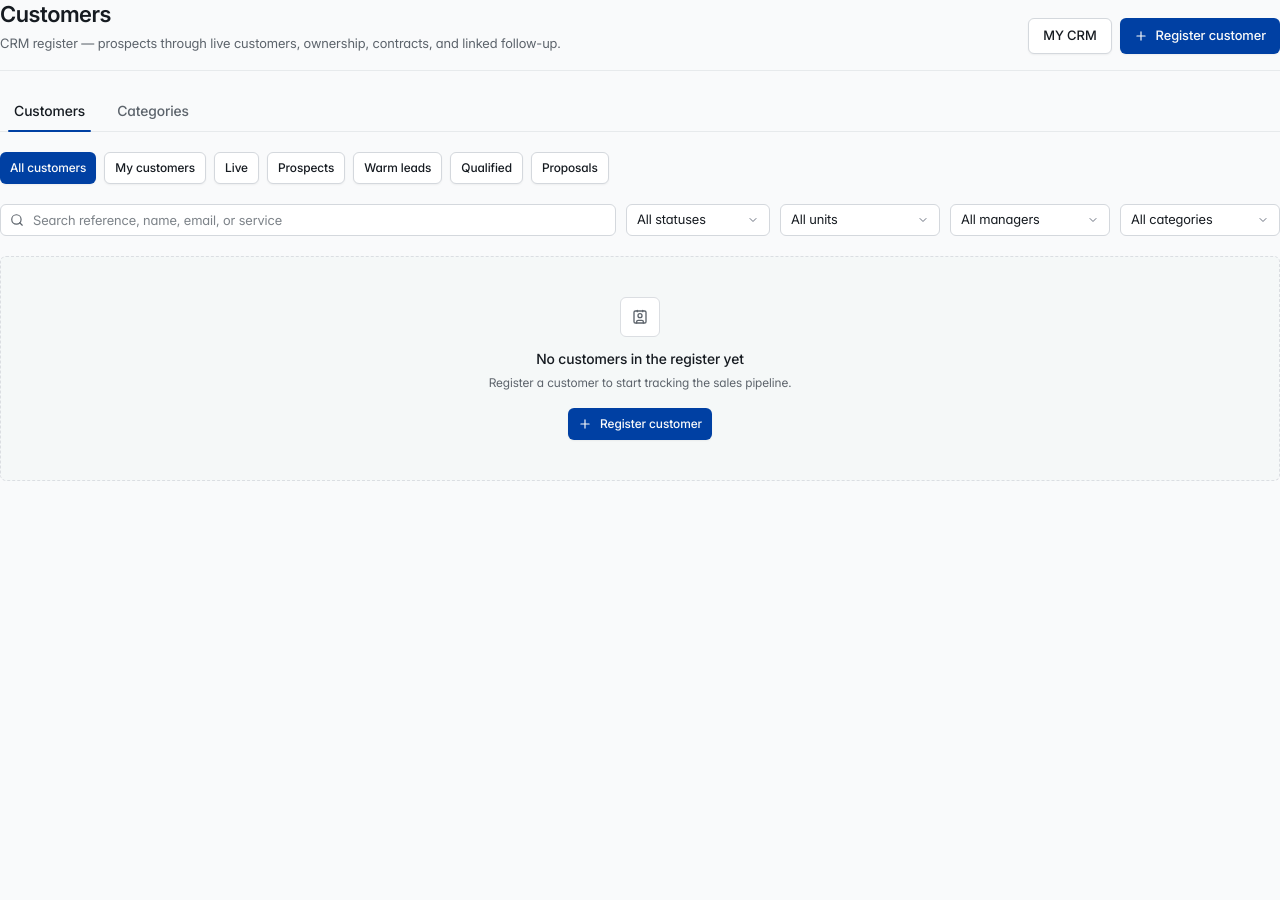
Test: CustomersListPage › opens create sheet from Register customer
Check: the text "No customers in the register yet" is shown, box [536, 350, 744, 367]
Click the button "Register customer" next to "MY CRM" at (1200, 36), box [1120, 18, 1279, 54]
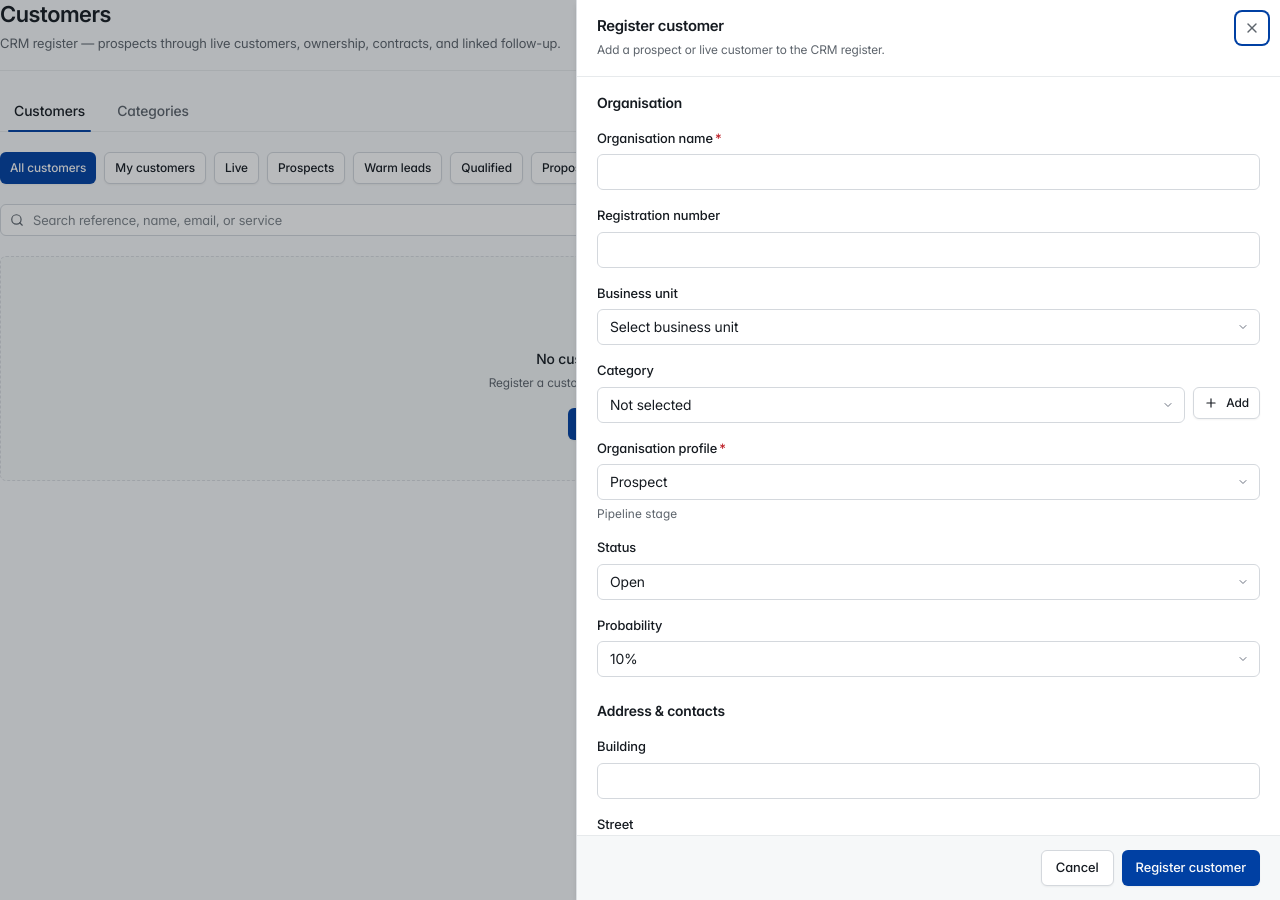
Check: the heading "Register customer" is shown, box [597, 16, 724, 35]
Check: the text "Organisation name*" is shown, box [597, 130, 722, 146]
